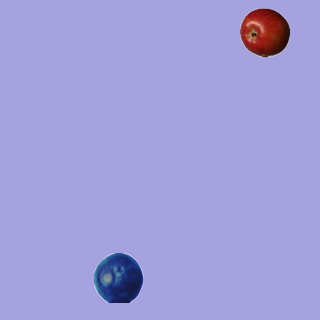Apple Braeburn: (239, 7, 289, 57)
Huckleberry: (93, 252, 143, 302)
